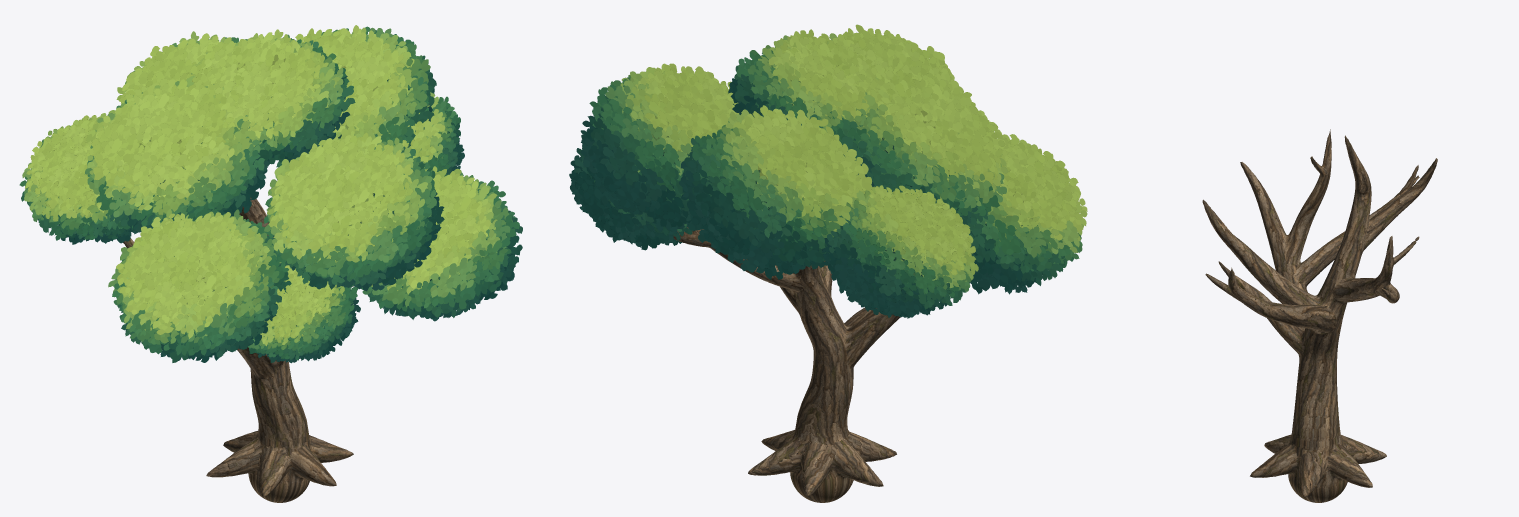
File: tree_v08.glb
3 renders of one model, left to right at view 1: azimuth 30°, elevation 25°; view 2: azimuth 150°, elevation 25°; view 3: azimuth 270°, elevation 25°, orthographic. The views are drawn at different scales.
Parts seen in each view (by area): view 1: Foliage_Cards, Trunk_UniqueUV; view 2: Foliage_Cards, Trunk_UniqueUV; view 3: Trunk_UniqueUV.
Part boxes in pixels (x1,y1,x2,y2): Foliage_Cards: [19, 25, 522, 363]; Trunk_UniqueUV: [123, 197, 353, 502]; Foliage_Cards: [569, 24, 1087, 318]; Trunk_UniqueUV: [673, 227, 900, 502]; Trunk_UniqueUV: [1202, 129, 1437, 502].
Bounding box in the file's own units: 4.82 × 4.96 × 3.79.
Materials: 2 (2 with a texture image).
